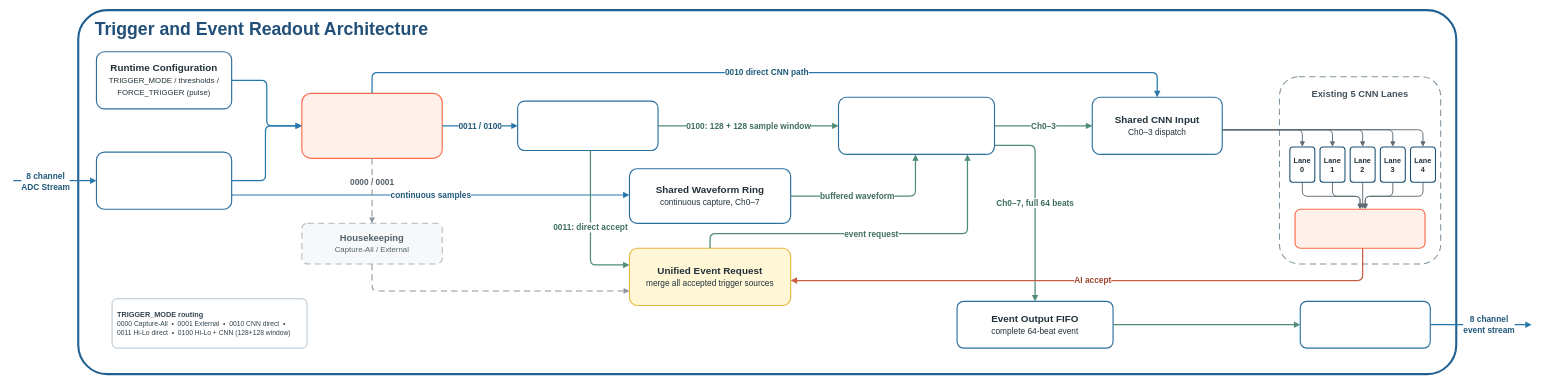
Some shapes in this 1545 by 384 pixel diagram are drawn without their labels. The shapes that lost their labels are listed below. From the top down, each one's centre as x and y in pixels, then its label:
(372,126): Mode Controller Delay switch until safe
(587,125): 4-to-16 Adapter single Hi–Lo trigger
(916,125): Shared Ring Read Scheduler
(164,180): ADC Ch0–7
(1359,228): Non-blocking Arbitration round-robin, trigger/discard
(1365,324): DAQ Event Stream Ch0–7 payload
